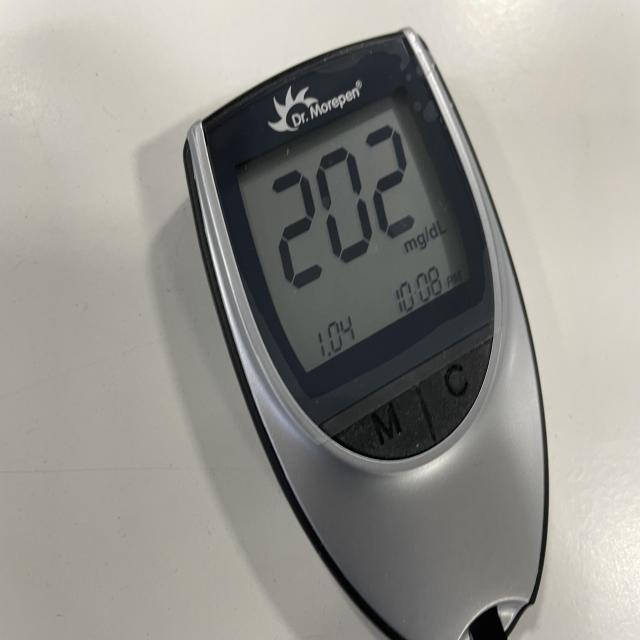gluco: (183, 29, 545, 639)
